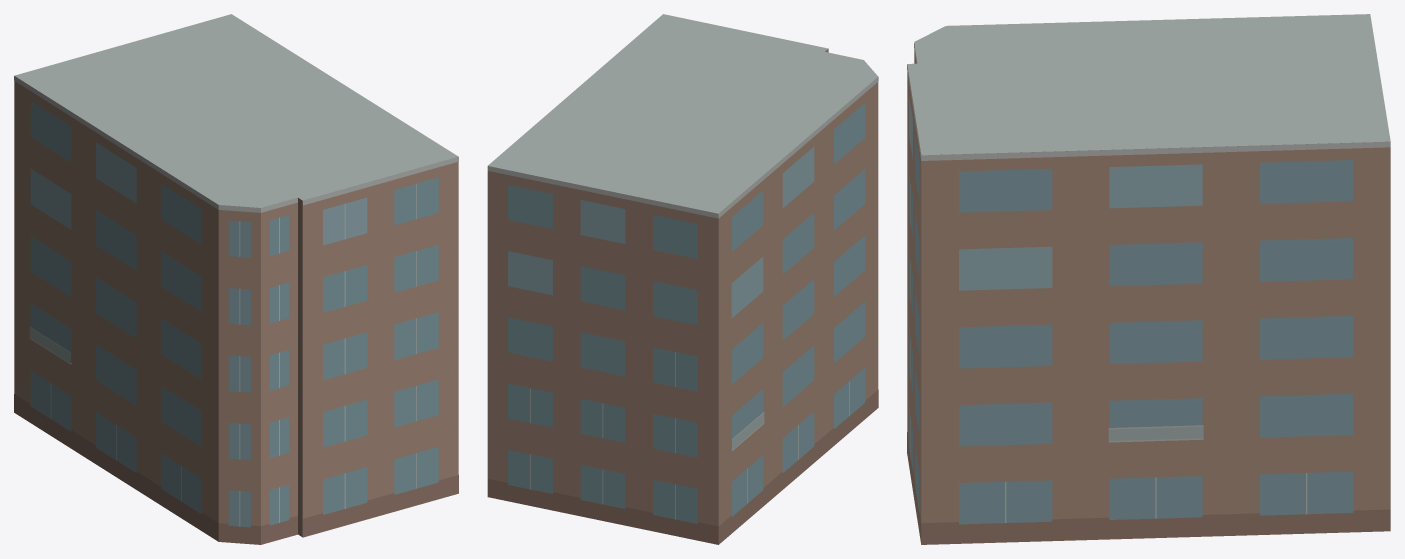
The model's file is survey-upis-32915127.glb.
3 renders of one model, left to right at view 1: azimuth 30°, elevation 25°; view 2: azimuth 150°, elevation 25°; view 3: azimuth 270°, elevation 25°, orthographic. The views are drawn at different scales.
Parts seen in each view (by area): view 1: survey-upis-32915127.tmp; view 2: survey-upis-32915127.tmp; view 3: survey-upis-32915127.tmp.
Boxes of the visible parts, box(x1,y1,x2,y2) form: survey-upis-32915127.tmp: box(14, 14, 458, 544); survey-upis-32915127.tmp: box(487, 14, 878, 544); survey-upis-32915127.tmp: box(907, 14, 1390, 544).
Bounding box in the file's own units: 13 × 16.7 × 18.8.
